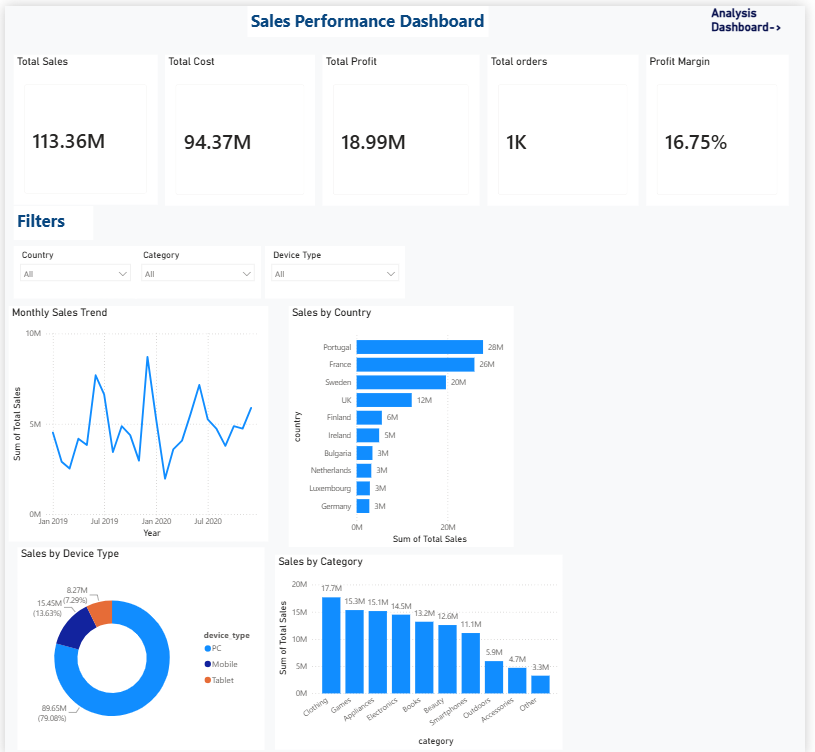

Layout of this report page (visuals, bound fields, positions):
{"tool":"powerbi","page":{"name":"Sales Performance","canvas":[1280,1200],"ordinal":0},"visuals":[{"type":"cardVisual","title":"Total Sales","fields":{"Data":["Sum(Sales-Export_2019-2020. order_value_EUR )"]},"box":[13.7,78.2,230.5,240.1],"z":0},{"type":"cardVisual","title":"Total Cost","fields":{"Data":["Sum(Sales-Export_2019-2020. cost )"]},"box":[256.3,78.2,240.1,241.5],"z":1000},{"type":"cardVisual","title":"Total Profit","fields":{"Data":["Sales-Export_2019-2020.Total Profit"]},"box":[508.4,78.2,251.1,241.5],"z":2000},{"type":"cardVisual","title":"Total orders","fields":{"Data":["Sales-Export_2019-2020.Total Orders"]},"box":[771.5,78.2,241.5,241.5],"z":3000},{"type":"textbox","box":[388,0,385.6,49.4],"z":4000},{"type":"cardVisual","title":"Profit Margin","fields":{"Data":["Sales-Export_2019-2020.Profit Margin %"]},"box":[1025,78.2,227.8,241.5],"z":5000},{"type":"slicer","fields":{"Values":["Sales-Export_2019-2020.country"]},"box":[14.3,384.3,197.1,84.3],"z":6000},{"type":"slicer","fields":{"Values":["Sales-Export_2019-2020.category"]},"box":[207.1,384.3,201.4,84.3],"z":7000},{"type":"slicer","fields":{"Values":["Sales-Export_2019-2020.device_type"]},"box":[415.7,384.3,224.3,84.3],"z":8000},{"type":"clusteredColumnChart","title":"Sales by Category","fields":{"Category":["Sales-Export_2019-2020.category"],"Y":["Sum(Sales-Export_2019-2020. order_value_EUR )"]},"box":[432.9,878.6,460,311.7],"z":10000},{"type":"clusteredBarChart","title":"Sales by Country","fields":{"Y":["Sum(Sales-Export_2019-2020. order_value_EUR )"],"Category":["Sales-Export_2019-2020.country"]},"box":[453.3,480,360,385.7],"z":11000},{"type":"donutChart","title":"Sales by Device Type","fields":{"Y":["Sum(Sales-Export_2019-2020. order_value_EUR )"],"Category":["Sales-Export_2019-2020.device_type"]},"box":[20,865,395,325],"z":12000},{"type":"textbox","box":[14.3,320,127.1,54.3],"z":13000},{"type":"lineChart","title":"Monthly Sales Trend","fields":{"Y":["Sum(Sales-Export_2019-2020.Total Sales)"],"Category":["Sales-Export_2019-2020.date.Variation.Date Hierarchy.Year","Sales-Export_2019-2020.date.Variation.Date Hierarchy.Quarter","Sales-Export_2019-2020.date.Variation.Date Hierarchy.Month","Sales-Export_2019-2020.date.Variation.Date Hierarchy.Day"]},"box":[6.7,480,415,376.7],"z":13001},{"type":"actionButton","title":"Analysis Dashboard->","box":[1130,0,150,45],"z":13002}]}

Visuals, with their boxes in screenshot pixels (x1, y1, x2, y2), scaled from the page's 1280x1200 canvas onto the 815x752 screenshot:
"Total Sales" cardVisual: <box>9,49,155,199</box>
"Total Cost" cardVisual: <box>163,49,316,200</box>
"Total Profit" cardVisual: <box>324,49,484,200</box>
"Total orders" cardVisual: <box>491,49,645,200</box>
textbox: <box>247,0,493,31</box>
"Profit Margin" cardVisual: <box>653,49,798,200</box>
slicer - Sales-Export_2019-2020.country: <box>9,241,135,294</box>
slicer - Sales-Export_2019-2020.category: <box>132,241,260,294</box>
slicer - Sales-Export_2019-2020.device_type: <box>265,241,408,294</box>
"Sales by Category" clusteredColumnChart: <box>276,551,569,746</box>
"Sales by Country" clusteredBarChart: <box>289,301,518,543</box>
"Sales by Device Type" donutChart: <box>13,542,264,746</box>
textbox: <box>9,201,90,235</box>
"Monthly Sales Trend" lineChart: <box>4,301,269,537</box>
"Analysis Dashboard->" actionButton: <box>719,0,814,28</box>
